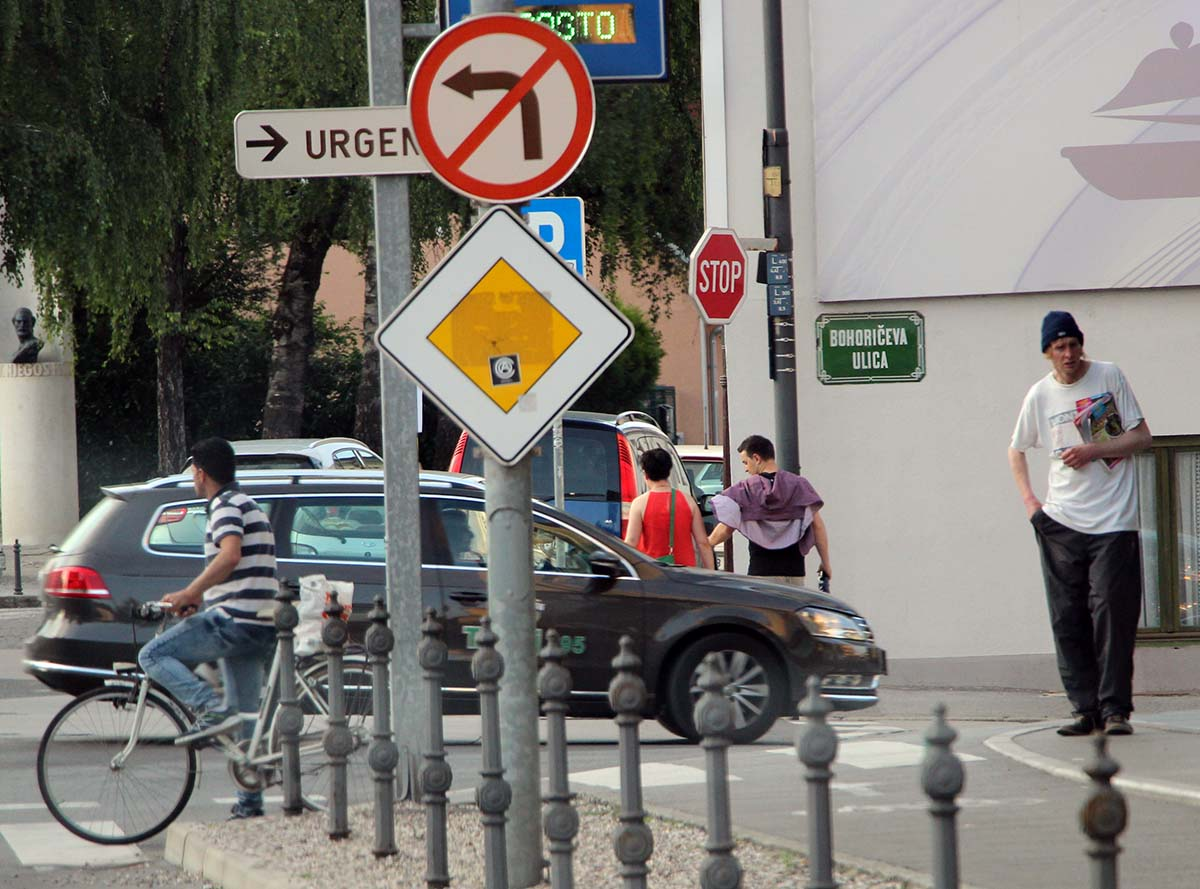stop: (688, 227, 749, 323)
